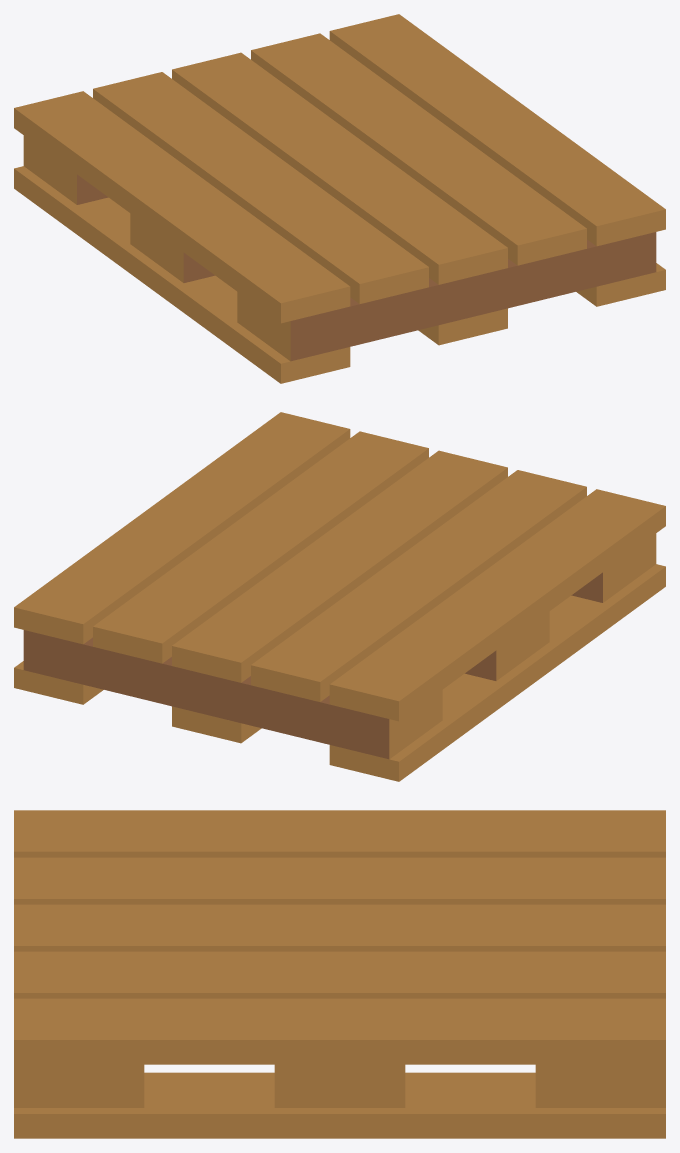
File: palette.glb
3 renders of one model, top to bottom at view 1: azimuth 30°, elevation 25°; view 2: azimuth 150°, elevation 25°; view 3: azimuth 270°, elevation 25°, orthographic. The views are drawn at different scales.
Visible parts, largest first — view 1: palette; view 2: palette; view 3: palette.
Part boxes in pixels (x1=…): palette: x1=14, y1=14, x2=665, y2=383; palette: x1=14, y1=412, x2=665, y2=781; palette: x1=14, y1=810, x2=665, y2=1138.
Bounding box in the file's own units: 1.1 × 0.22 × 1.32.
1 material, 1 textured.
